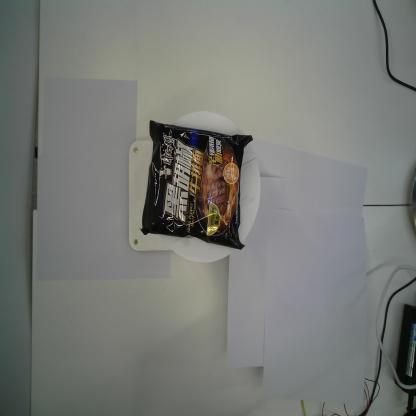Instant Noodles: (138, 119, 254, 249)
